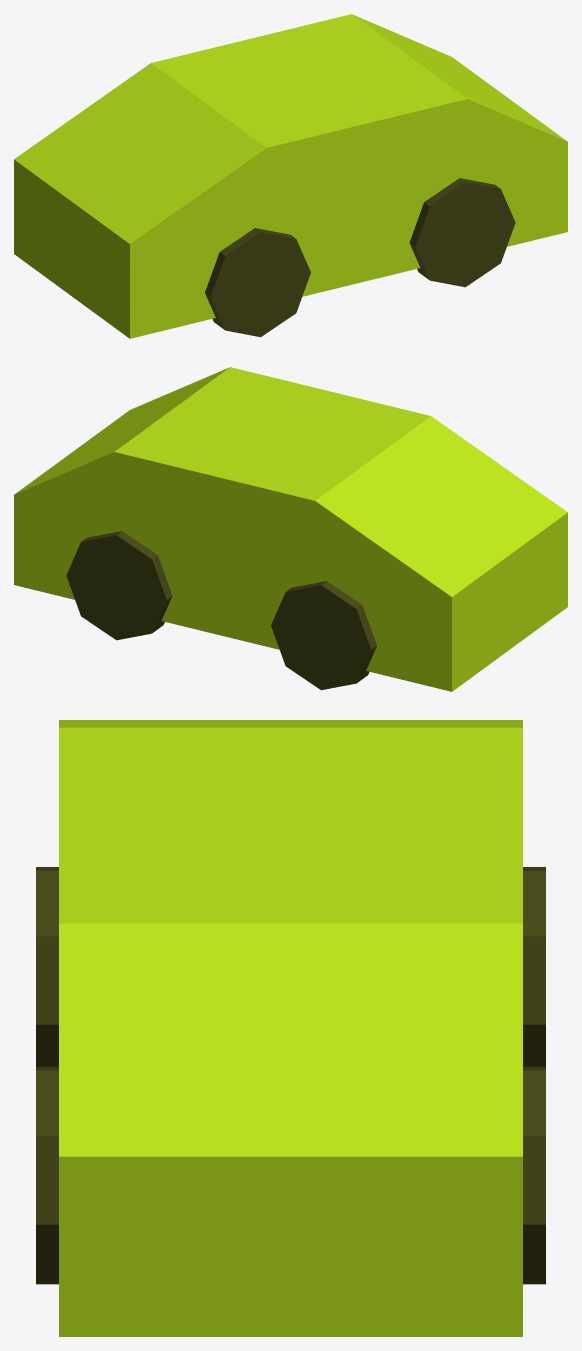
File: car_centered.glb
3 views of the same model, one above another, from view 1: azimuth 30°, elevation 25°; view 2: azimuth 150°, elevation 25°; view 3: azimuth 270°, elevation 25° (orthographic). The views are drawn at different scales.
Visible parts, largest first — view 1: Cube; view 2: Cube; view 3: Cube.
Boxes of the visible parts, bbox=[...] form: Cube: bbox=[14, 14, 567, 338]; Cube: bbox=[14, 367, 567, 691]; Cube: bbox=[36, 720, 545, 1336].
Bounding box in the file's own units: 4.36 × 1.73 × 2.2.
